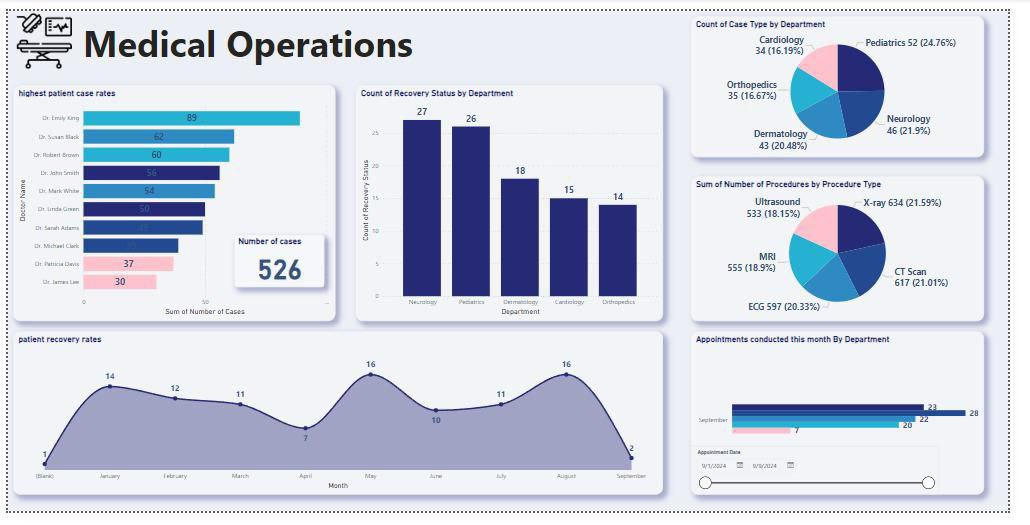

The dashboard page shown, as its layout file describes it:
{"tool":"powerbi","page":{"name":"Medical ","canvas":[2000,1000],"ordinal":1},"visuals":[{"type":"pieChart","fields":{"Category":["cases.Department"],"Y":["cases.Case Type"]},"box":[1365,10,587.5,282.5],"z":0},{"type":"clusteredBarChart","title":"Appointments conducted this month By Department","fields":{"Category":["Appointment.Appointment Date.Variation.Date Hierarchy.Month"],"Y":["Appointment.Appointment ID"],"Series":["Appointment.Department"]},"box":[1365,640,587.5,327.5],"z":1000},{"type":"slicer","fields":{"Values":["Appointment.Appointment Date"]},"box":[1365,870,497.5,97.5],"z":2000},{"type":"barChart","title":"highest patient case rates","fields":{"Category":["cases num.Doctor Name"],"Y":["cases num.Number of Cases"],"Series":["cases num.Department"]},"box":[10,147.5,645,472.5],"z":3000},{"type":"clusteredColumnChart","fields":{"Category":["Recovery.Department"],"Y":["Recovery.Recovery Status"]},"box":[695,147.5,615,472.5],"z":4000},{"type":"pieChart","fields":{"Y":["Procedure Type.Number of Procedures"],"Category":["Procedure Type.Procedure Type"]},"box":[1365,330,587.5,290],"z":5000},{"type":"lineChart","title":" patient recovery rates","fields":{"Category":["Recovery.Discharge Date.Variation.Date Hierarchy.Month"],"Y":["Recovery.Recovery Status"]},"box":[10,640,1300,327.5],"z":6000},{"type":"card","title":"Number of cases ","fields":{"Values":["cases num.Number of Cases"]},"box":[452.5,447.5,180,105],"z":7000},{"type":"textbox","box":[145,10,712.5,110],"z":7001},{"type":"image","box":[0,0,145,120],"z":7002}]}

Visuals, with their boxes in screenshot pixels (x1, y1, x2, y2), scaled from the page's 2000x1000 canvas onto the 1030x525 screenshot:
pieChart - cases.Department x cases.Case Type: detection(703, 5, 1006, 154)
"Appointments conducted this month By Department" clusteredBarChart: detection(703, 336, 1006, 508)
slicer - Appointment.Appointment Date: detection(703, 457, 959, 508)
"highest patient case rates" barChart: detection(5, 77, 337, 326)
clusteredColumnChart - Recovery.Department x Recovery.Recovery Status: detection(358, 77, 675, 326)
pieChart - Procedure Type.Number of Procedures x Procedure Type.Procedure Type: detection(703, 173, 1006, 326)
" patient recovery rates" lineChart: detection(5, 336, 675, 508)
"Number of cases " card: detection(233, 235, 326, 290)
textbox: detection(75, 5, 442, 63)
image: detection(0, 0, 75, 63)
